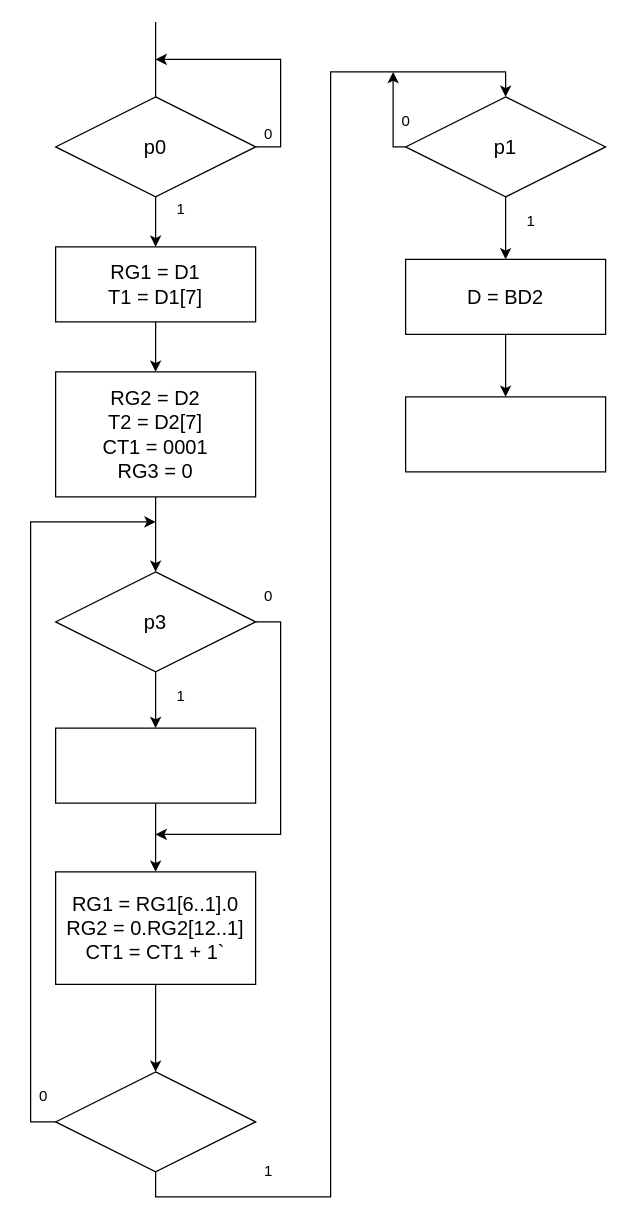
This 628x1229 diagram has some shape labels left out. The shapes that lost their labels are listed below. From the top down, each one's centre as x and y in pixels, then its label:
point 505,434: D = BD1
point 155,765: RG3 = RG3 + RG2
point 155,1121: p2
